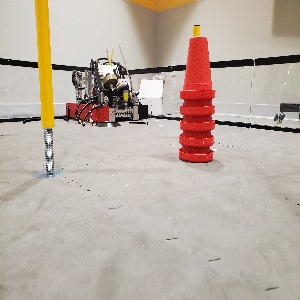Red_5: (173, 31, 223, 170)
